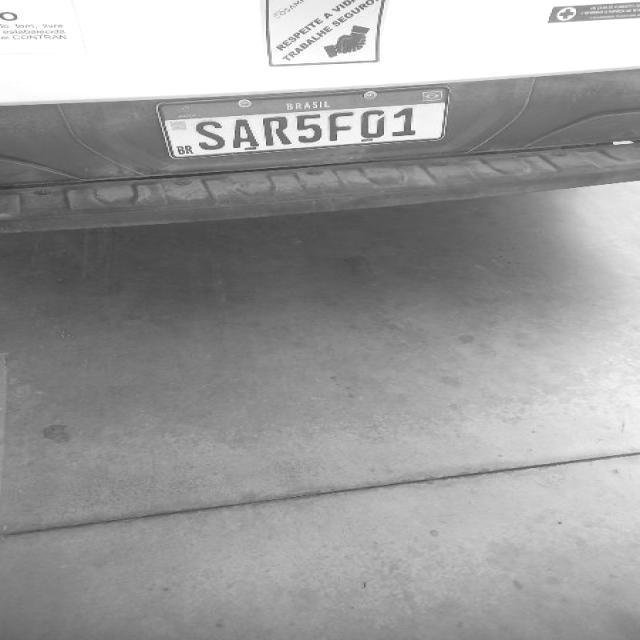placa_mercosul: (156, 87, 450, 160)
